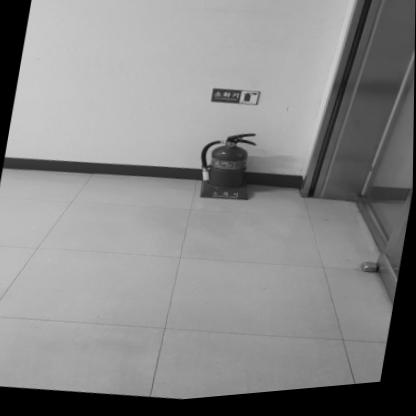FE: (194, 130, 258, 208)
